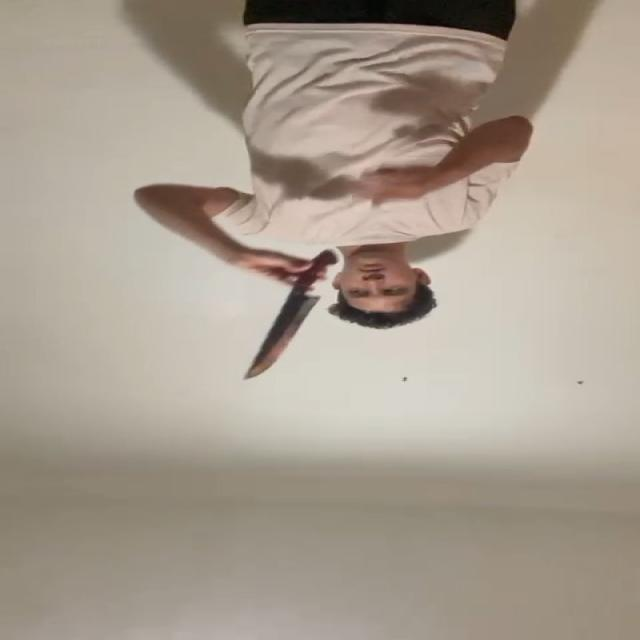knife: (243, 289, 325, 379)
